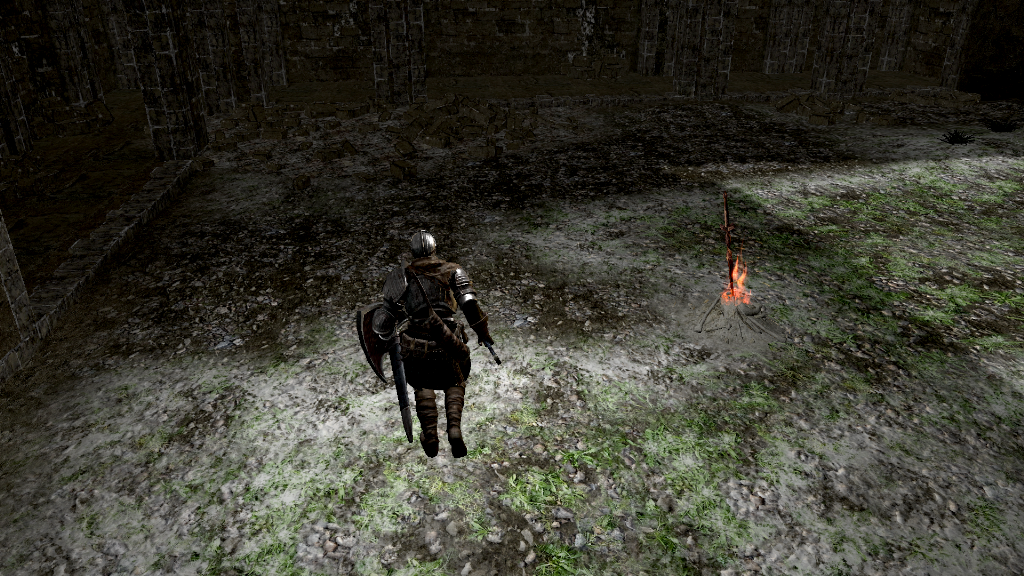bonfire: (709, 189, 763, 324)
player: (356, 226, 506, 462)
